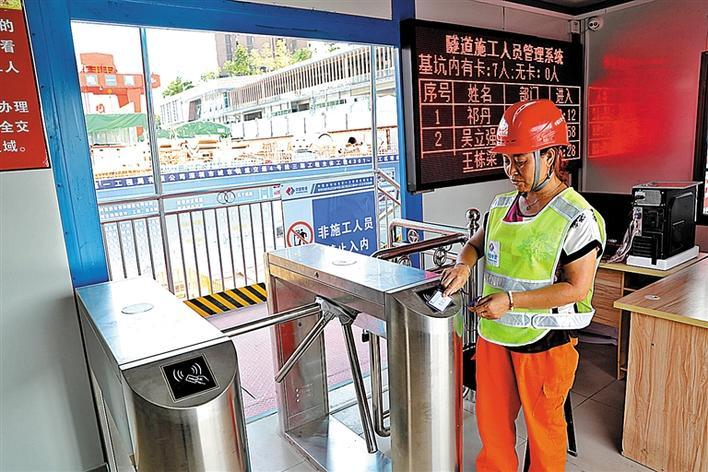helmet: (492, 100, 570, 158)
